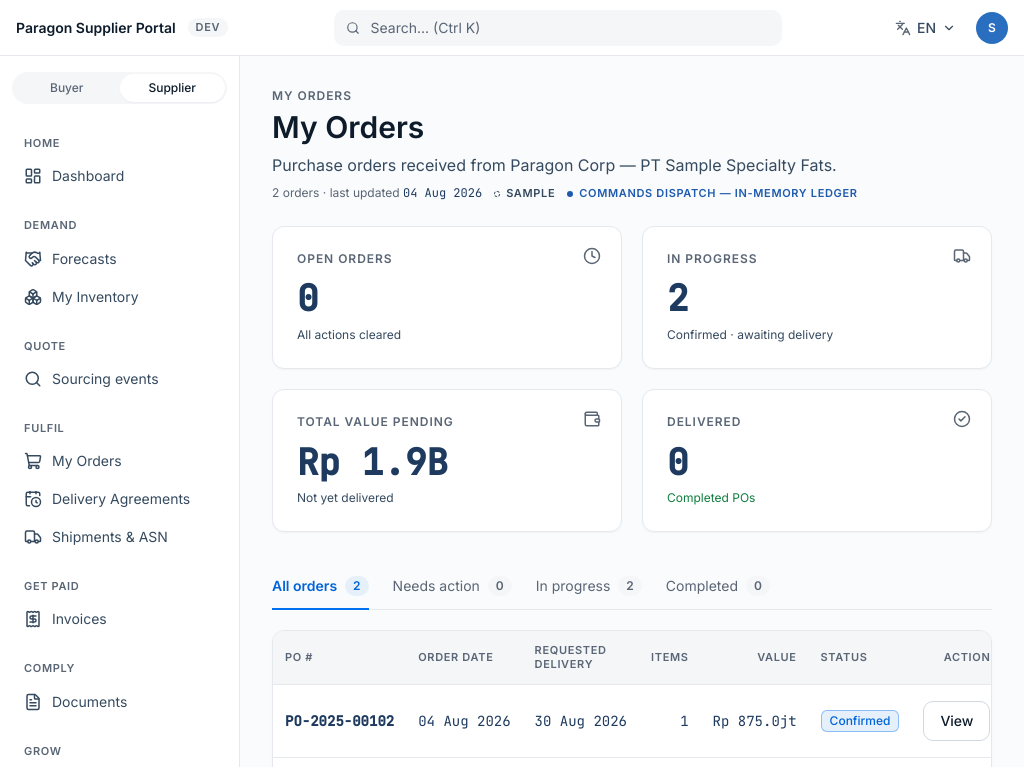
E2E-2 · the order shows what was received [en] › the SUPPLIER reads the same block on the same order, and is not offered a ship notice
This screenshot has width=1024, height=767.
Click the button "View": (957, 721) [923,701,990,741]
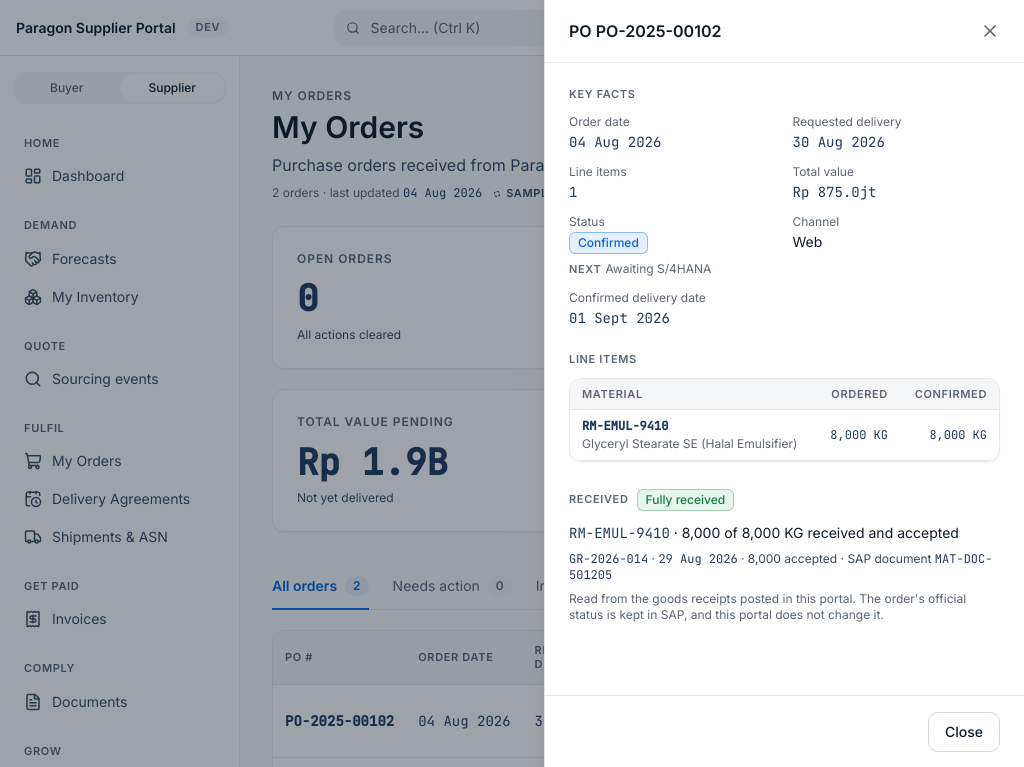
Expected: the element with test id "supplier-order-received-full" reads "Fully received", [646,492,725,507]
Expected: the text with test id "supplier-order-received-sap-note" shows "Read from the goods receipts posted in this portal. The order's official status is kept in SAP, and this portal does not change it.", [569,591,966,622]
